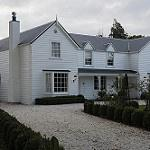building: (0, 11, 149, 105)
